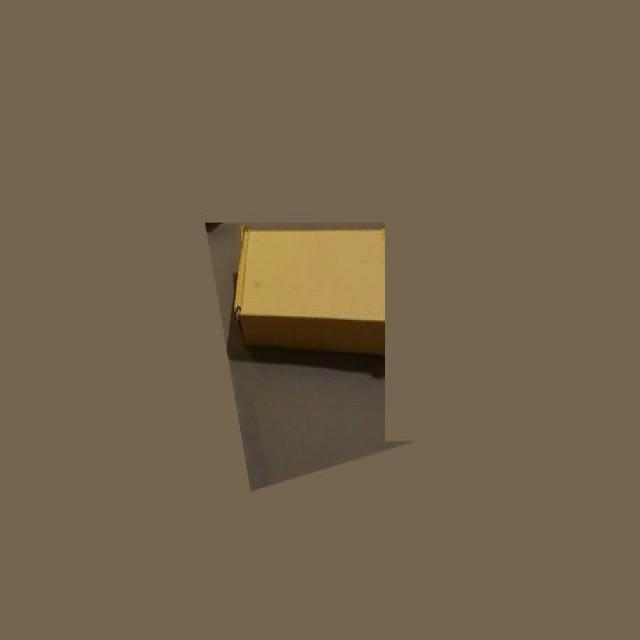box: (233, 220, 387, 362)
